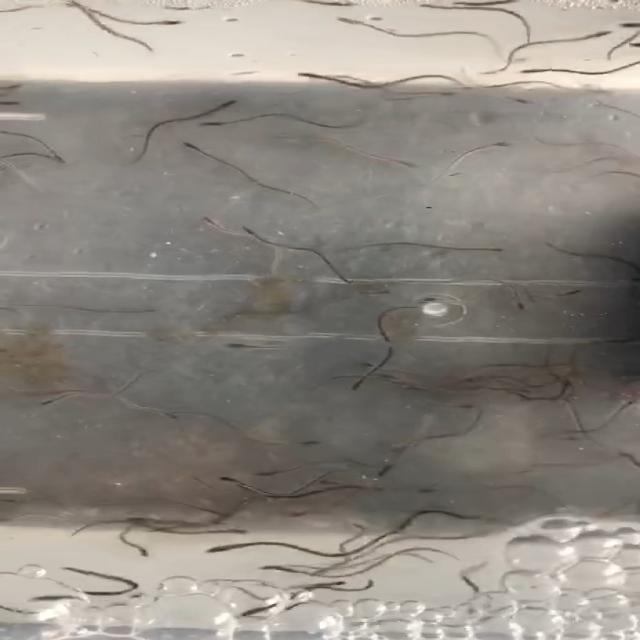active_glass_eel: (454, 228, 506, 254), (327, 375, 378, 396), (160, 140, 217, 157), (315, 578, 367, 596), (186, 209, 231, 229), (488, 299, 547, 314), (204, 542, 246, 562), (228, 220, 266, 240), (597, 138, 640, 155), (130, 405, 173, 422), (386, 153, 419, 175), (235, 602, 281, 617), (222, 472, 258, 491), (479, 139, 519, 156), (206, 96, 251, 111), (232, 338, 267, 357), (330, 15, 376, 29), (589, 408, 621, 428), (588, 449, 625, 466), (120, 543, 156, 560), (197, 114, 232, 131), (584, 26, 620, 42), (36, 394, 64, 414), (446, 0, 478, 17), (449, 482, 483, 498), (259, 562, 290, 578), (208, 527, 253, 538), (28, 592, 60, 607), (271, 468, 318, 478), (284, 436, 323, 448), (286, 68, 328, 79), (371, 462, 393, 482), (84, 6, 127, 16), (516, 64, 544, 78), (610, 439, 634, 454), (409, 0, 448, 9), (158, 14, 187, 26), (351, 288, 374, 303), (174, 389, 207, 399), (87, 392, 119, 402), (35, 154, 64, 164), (508, 0, 537, 8), (129, 308, 158, 316)
